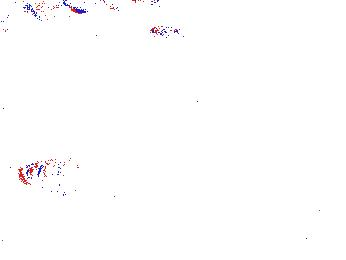X-ray fish: (18, 159, 96, 195), (159, 132, 228, 169)
red belly glassfish: (148, 22, 181, 40), (135, 1, 163, 10)
redtail glassfish: (40, 1, 120, 16), (1, 1, 47, 27)
